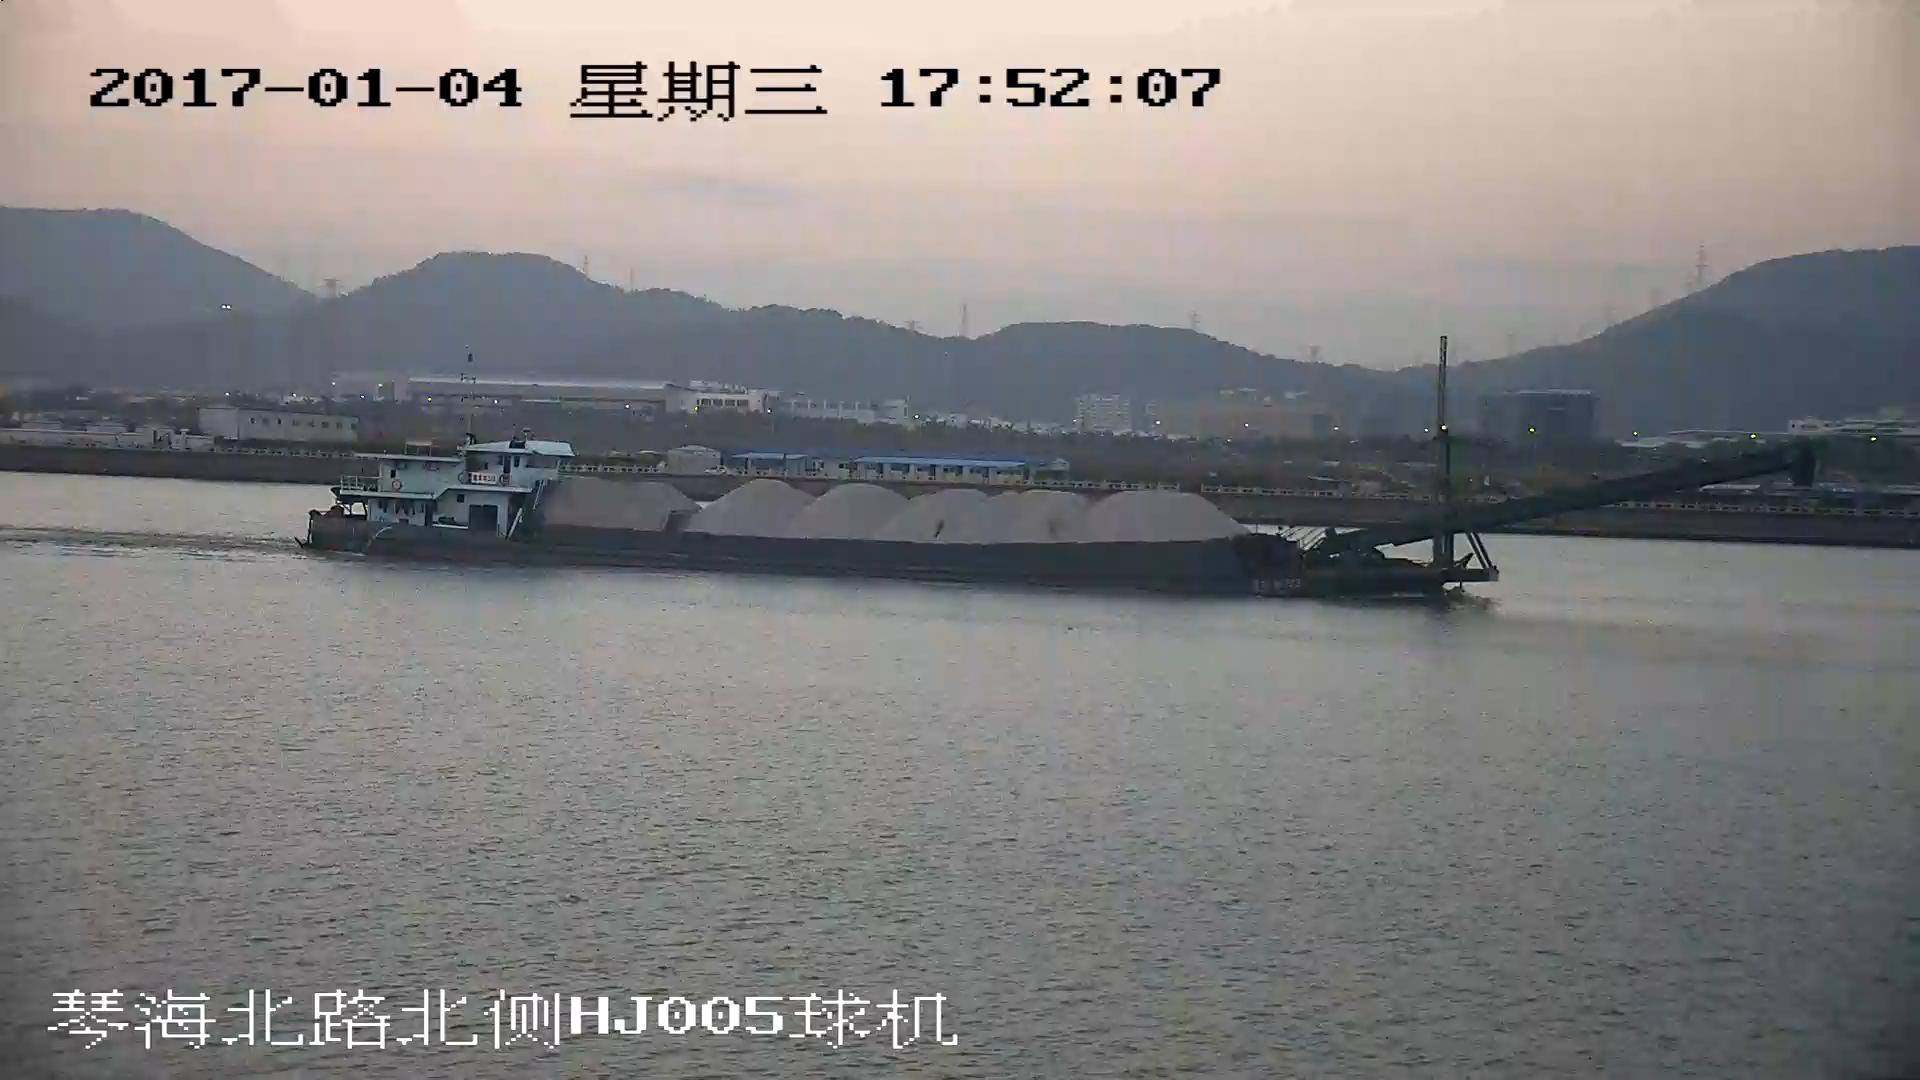ore carrier: (306, 440, 1810, 570)
